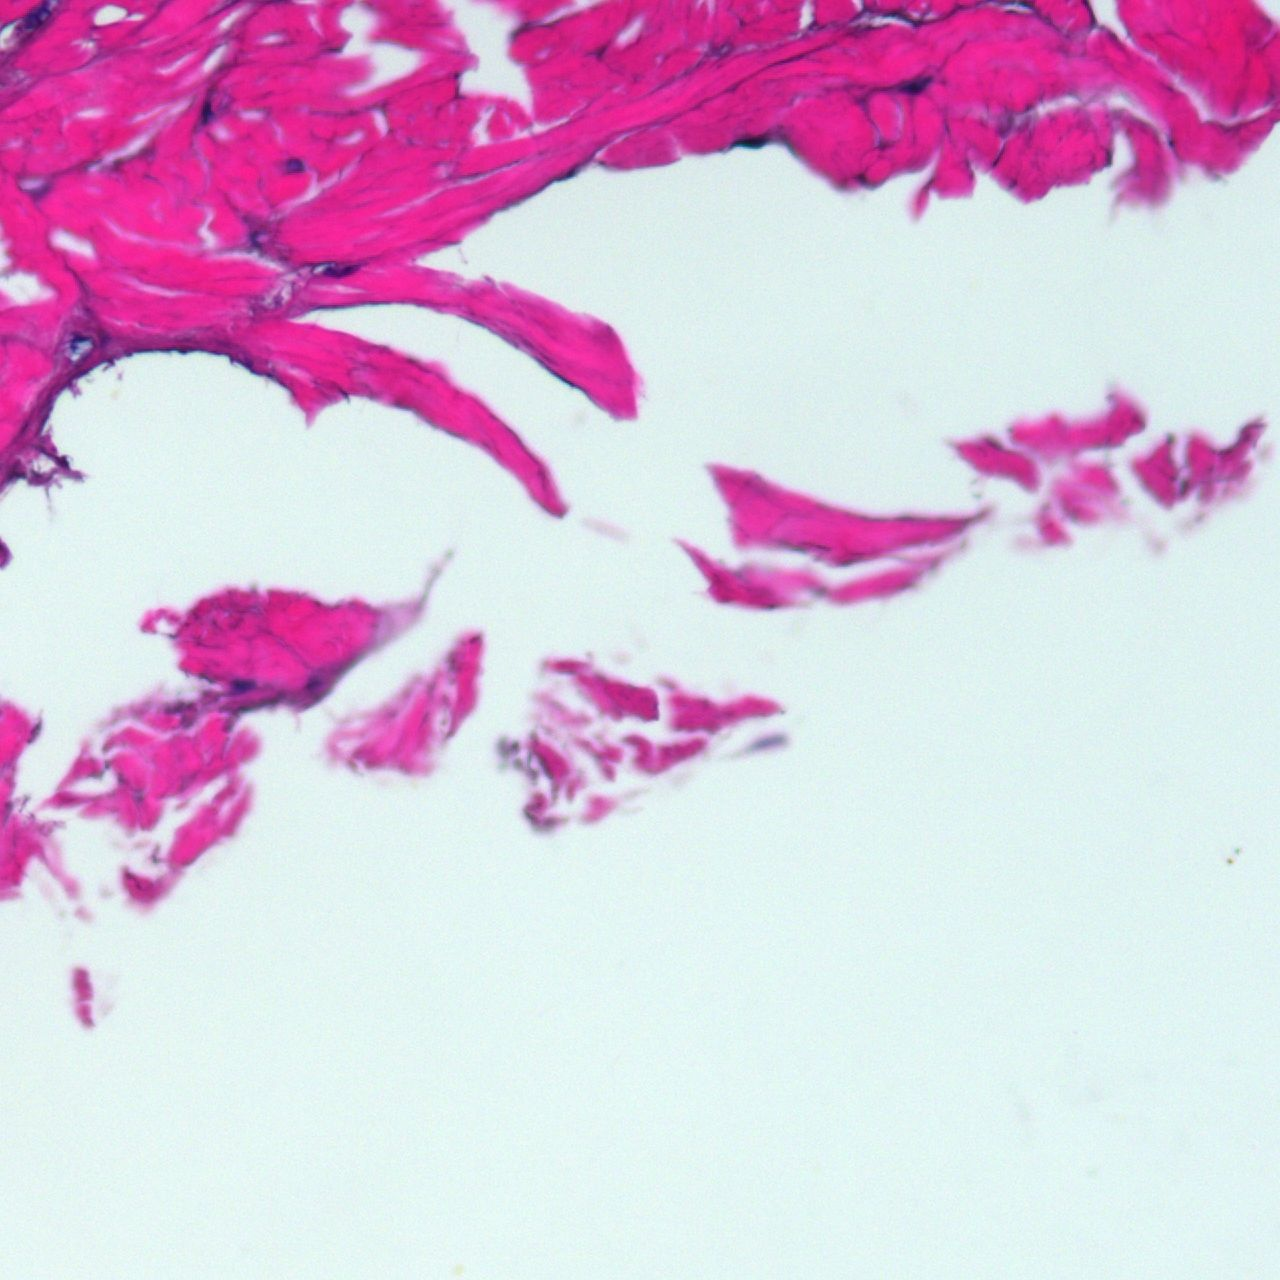nucleus-HE: (735, 132, 770, 154), (901, 75, 932, 97), (336, 261, 360, 279), (286, 158, 304, 173), (200, 103, 211, 124), (233, 680, 252, 692), (455, 1264, 462, 1275)
